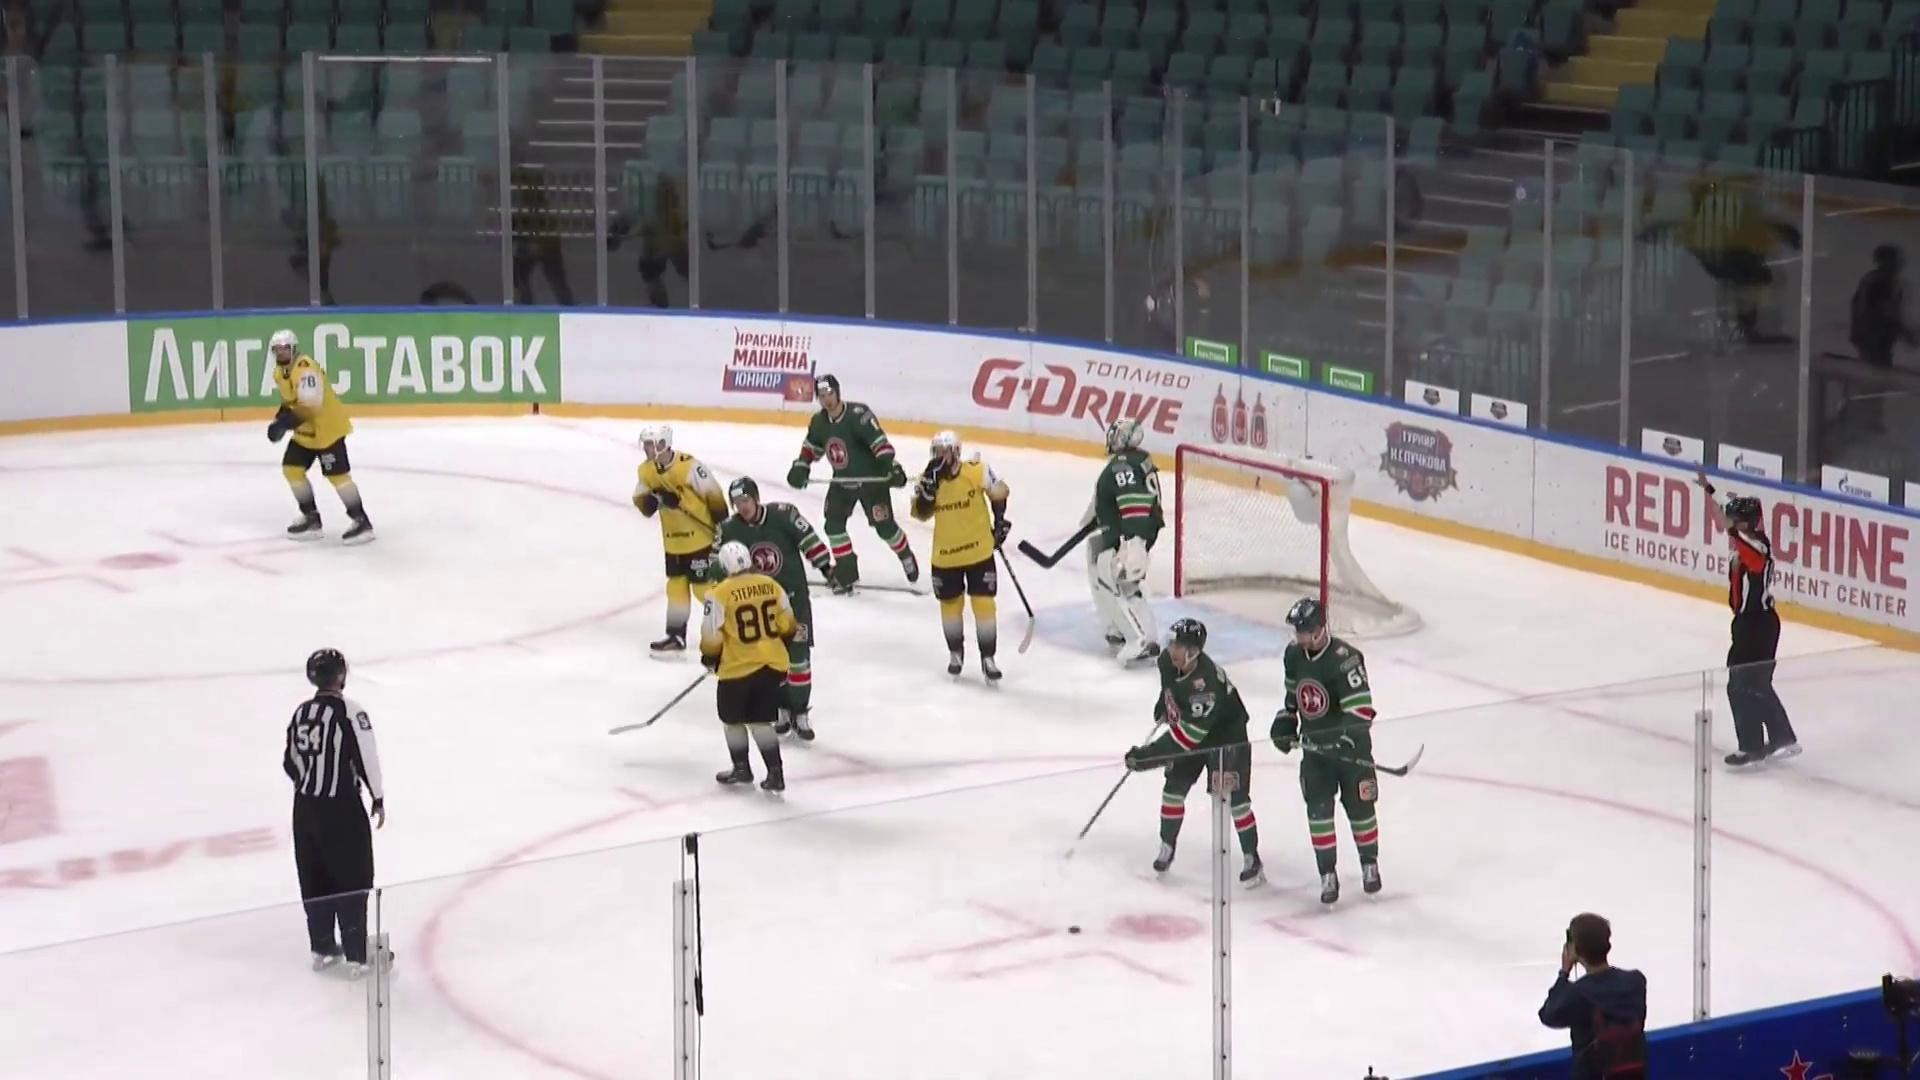ball: (1065, 924, 1085, 938)
